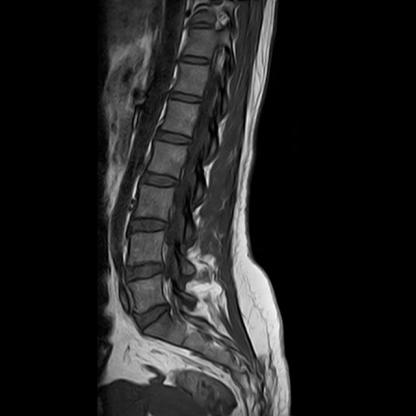Disc Bulgerotation: (133, 306, 176, 327), (127, 261, 166, 281)
